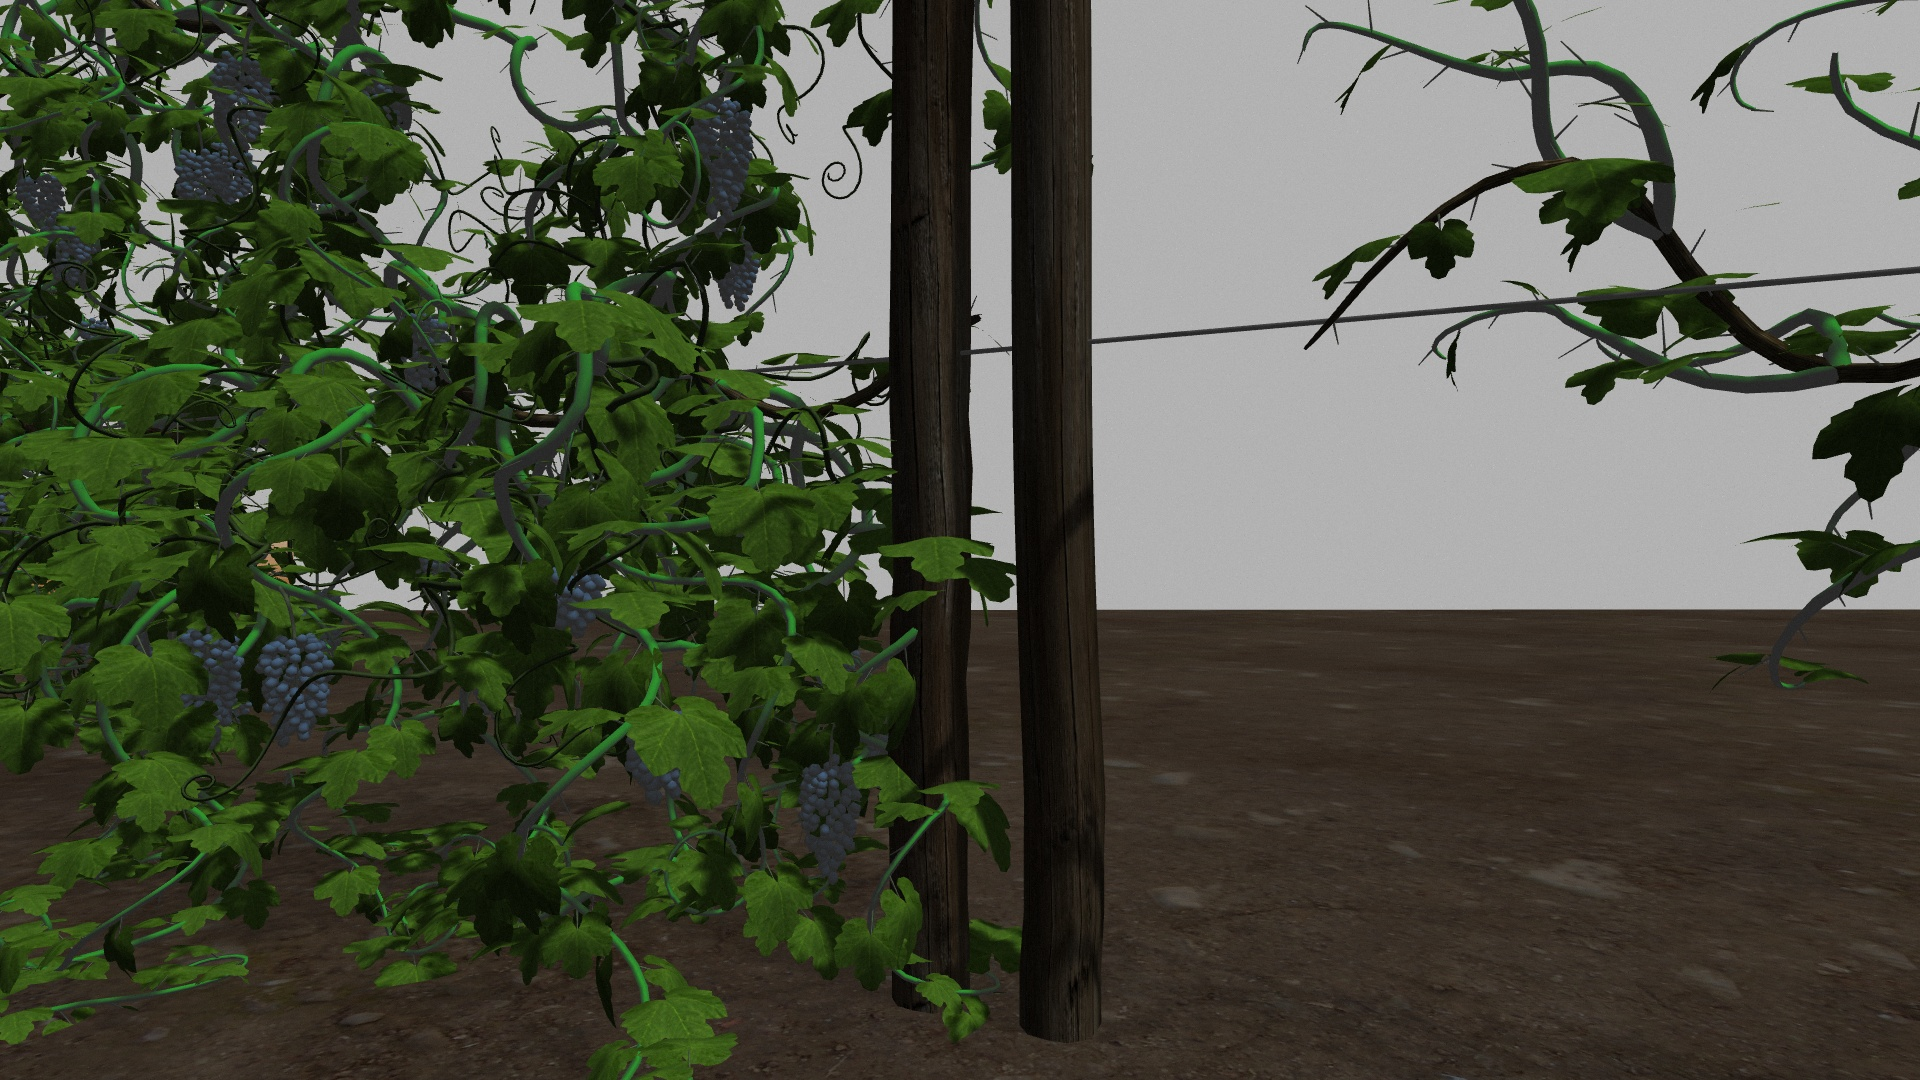grape: (799, 754, 865, 889), (687, 98, 756, 220), (257, 633, 328, 748), (204, 59, 272, 148), (554, 568, 611, 637), (206, 634, 243, 725), (715, 245, 761, 313), (206, 142, 255, 202), (51, 236, 102, 290), (16, 175, 65, 225), (174, 142, 207, 204)
